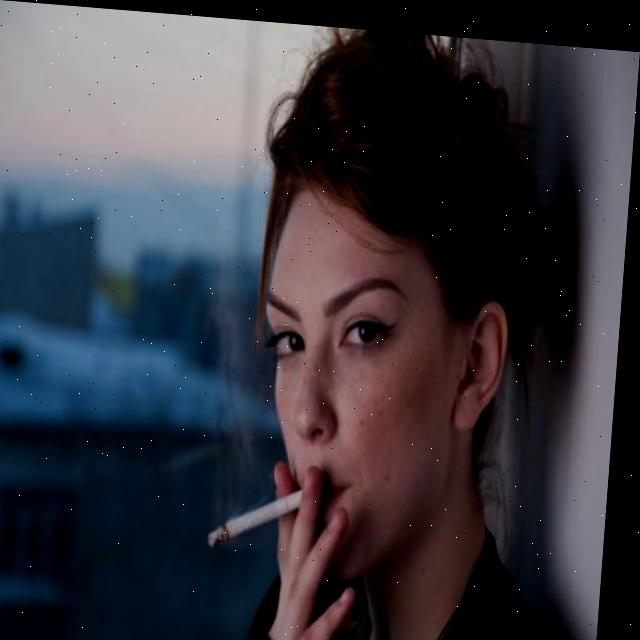cigarette: (212, 475, 314, 550)
